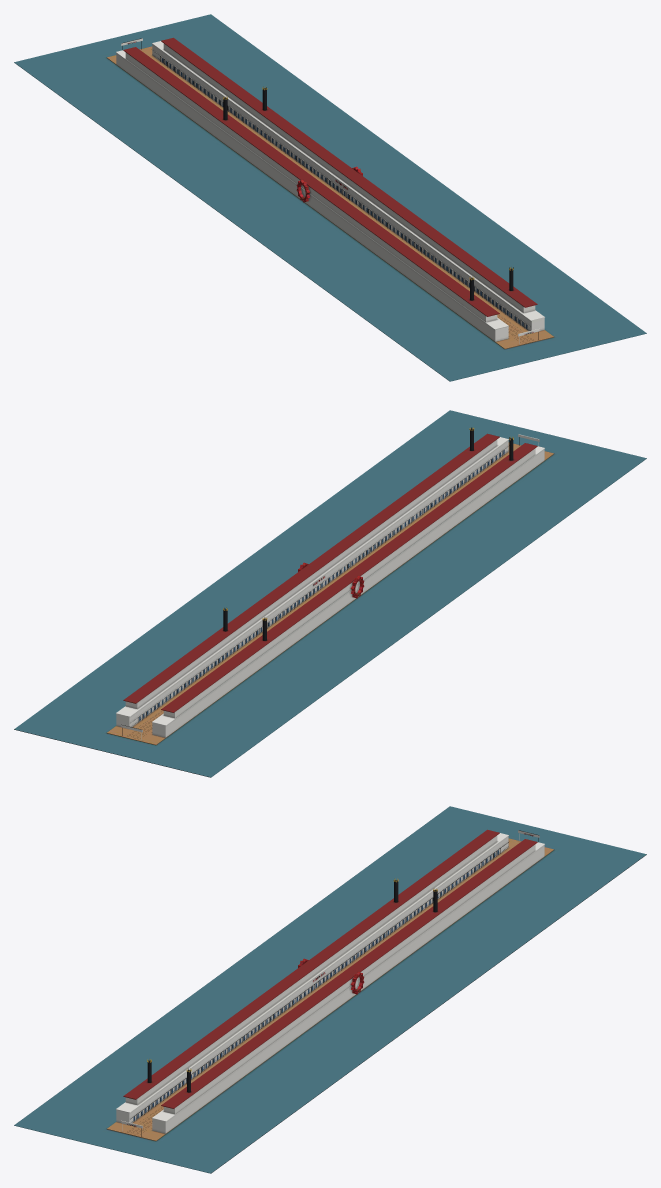
File: barco_vapor.glb
3 views of the same model, one above another, from view 1: azimuth 30°, elevation 25°; view 2: azimuth 150°, elevation 25°; view 3: azimuth 330°, elevation 25° (orthographic).
Parts seen in each view (by area): view 1: barco_vapor; view 2: barco_vapor; view 3: barco_vapor.
Boxes of the visible parts, x1=… form: barco_vapor: x1=14, y1=14, x2=646, y2=381; barco_vapor: x1=14, y1=410, x2=646, y2=777; barco_vapor: x1=14, y1=806, x2=646, y2=1173.
Size of the model in its own units: 120 by 25.5 by 460.
1 material, 1 textured.
